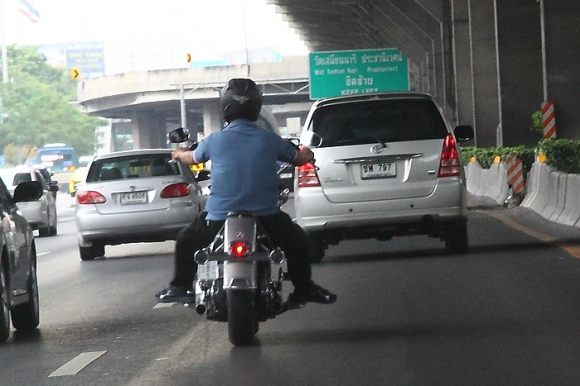helmet: (218, 78, 267, 123)
motorcycle: (179, 192, 320, 356)
